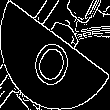O_NE: (29, 22, 81, 88)
